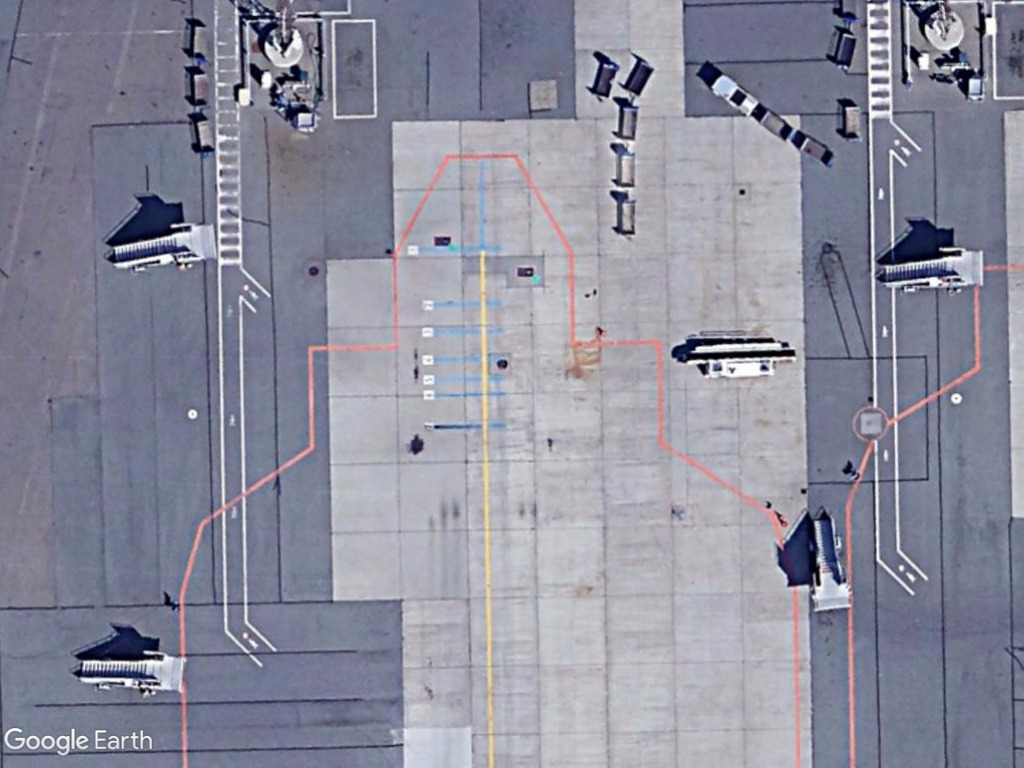stairtruck: (795, 501, 866, 624), (869, 237, 993, 302), (101, 214, 219, 277), (70, 643, 195, 700)
